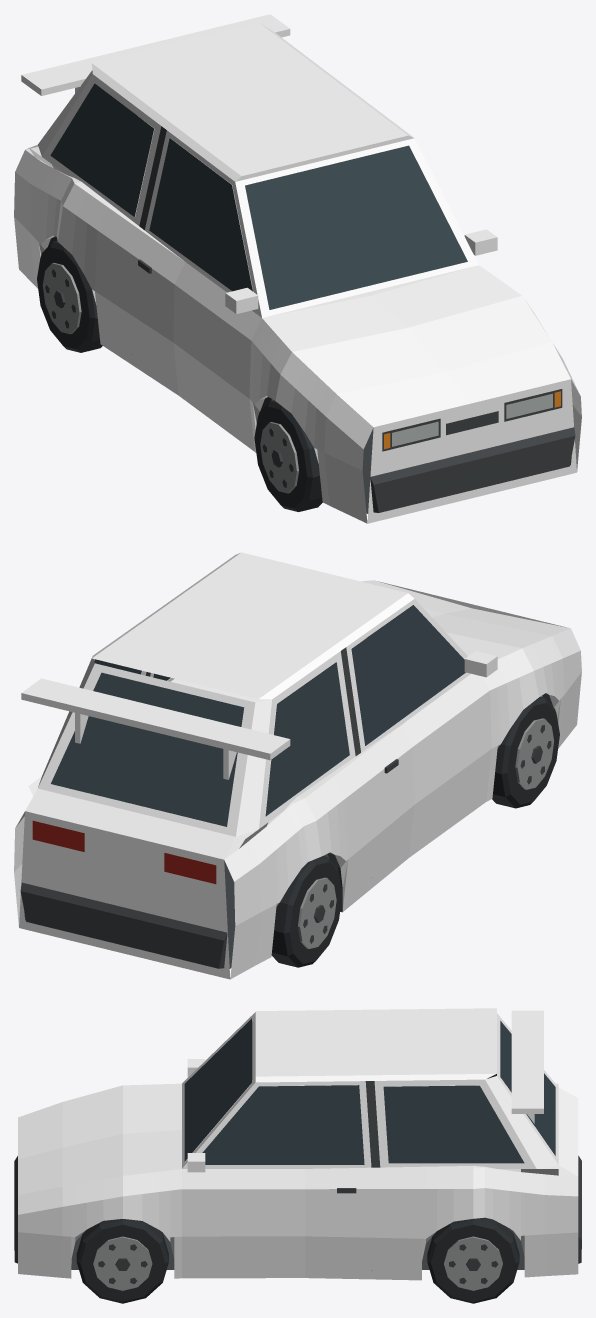
Rendered from saulieu_ecume_corrida_ii.glb.
3 views of the same model, one above another, from view 1: azimuth 30°, elevation 25°; view 2: azimuth 150°, elevation 25°; view 3: azimuth 270°, elevation 25° (orthographic). The views are drawn at different scales.
Visible parts, largest first — view 1: saulieu_ecume_corrida_ii; view 2: saulieu_ecume_corrida_ii; view 3: saulieu_ecume_corrida_ii.
Boxes of the visible parts, x1,y1,x2,y2 form: saulieu_ecume_corrida_ii: [14, 14, 581, 523]; saulieu_ecume_corrida_ii: [14, 552, 581, 979]; saulieu_ecume_corrida_ii: [14, 1008, 581, 1303].
Bounding box in the file's own units: 1.67 × 1.61 × 3.87.
Materials: 8 (1 with a texture image).
